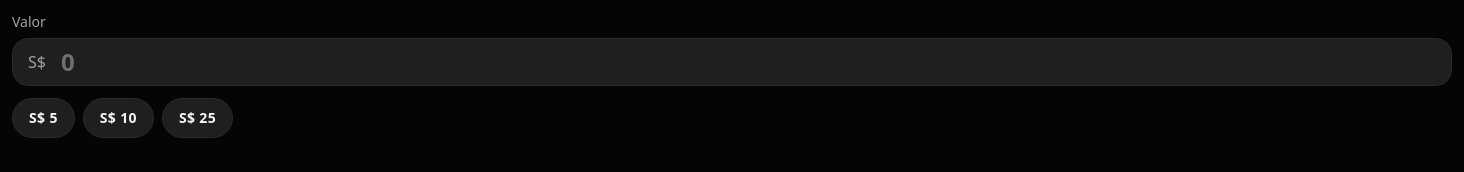
Test: <TecladoValor> › aceita apenas números inteiros
Type "1a2,5" into the field labelled "Valor" at (732, 62), box [12,38,1452,86]
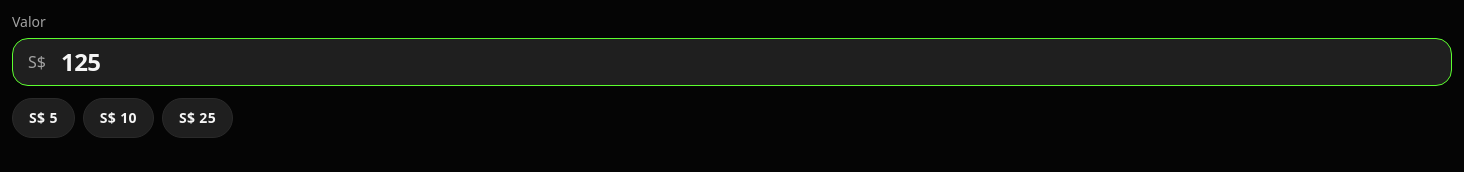
Expected: the field labelled "Valor" holds "125", [12,38,1452,86]
